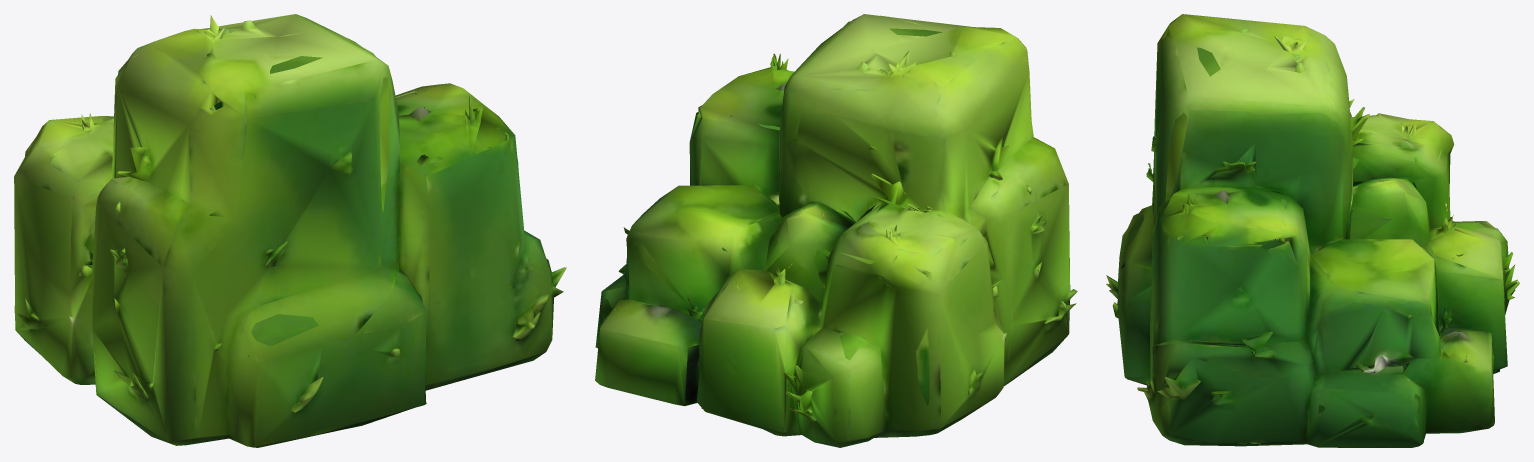
3 renders of one model, left to right at view 1: azimuth 30°, elevation 25°; view 2: azimuth 150°, elevation 25°; view 3: azimuth 270°, elevation 25°, orthographic. The views are drawn at different scales.
Parts seen in each view (by area): view 1: world; view 2: world; view 3: world.
Boxes of the visible parts, x1,y1,x2,y2 form: world: (14,14,566,447); world: (595,14,1077,447); world: (1106,14,1519,447).
Size of the model in its own units: 0.9974 by 0.8098 by 0.9937.
Materials: 1 (1 with a texture image).
